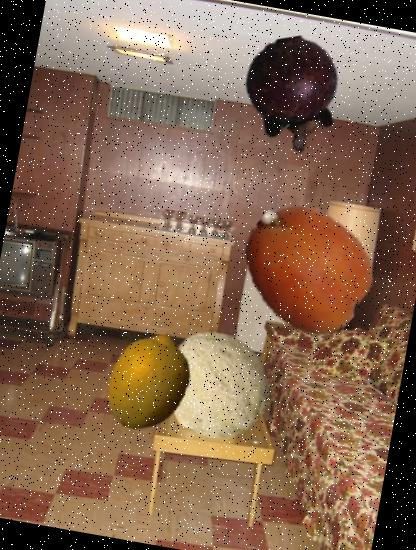Apricot: (229, 190, 384, 346)
Cantaloupe: (152, 320, 279, 447)
Lemon: (90, 322, 209, 440)
Mangostan: (226, 28, 360, 162)
